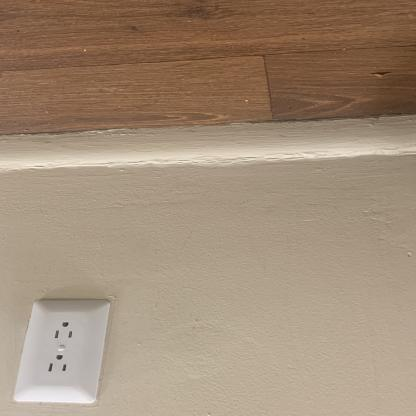OUTLET: (13, 298, 110, 404)
